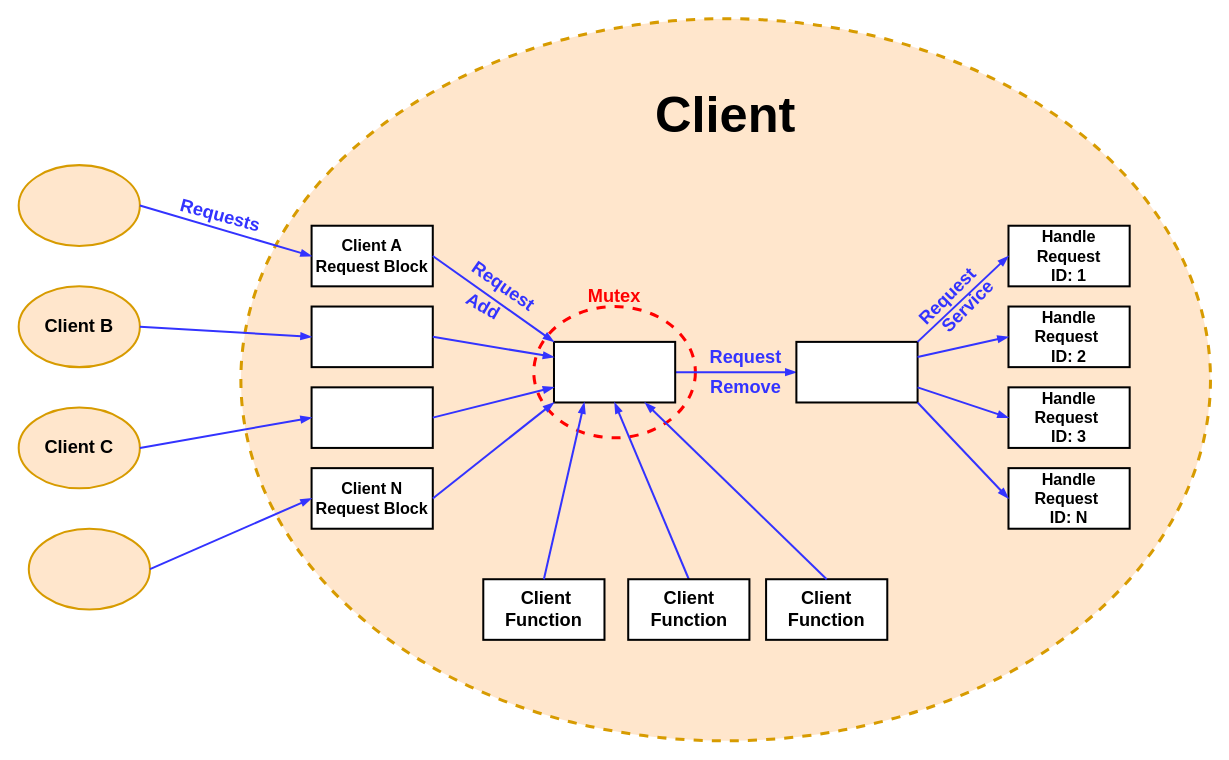
Image size: 1229x760. Some labels were removed from this diagram. Here are the shapes that lost their labels. From the top down, the centre of each, then its label:
At point 78,205: "Client A".
At point 371,336: "Client B Request Block".
At point 614,371: "Request Queue".
At point 856,371: "Request Handler".
At point 371,417: "Client C Request Block".
At point 88,568: "Client N".
